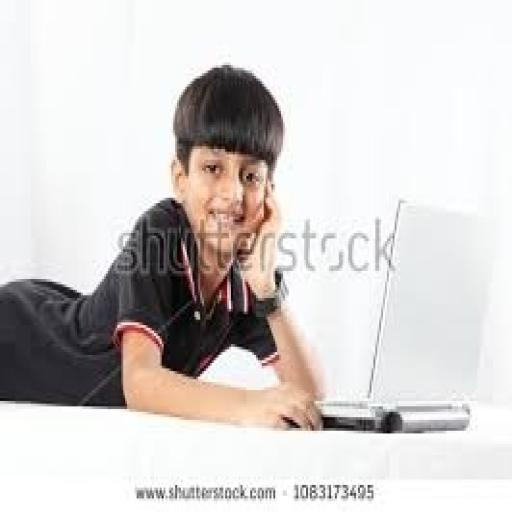using_laptop: (304, 192, 495, 434)
